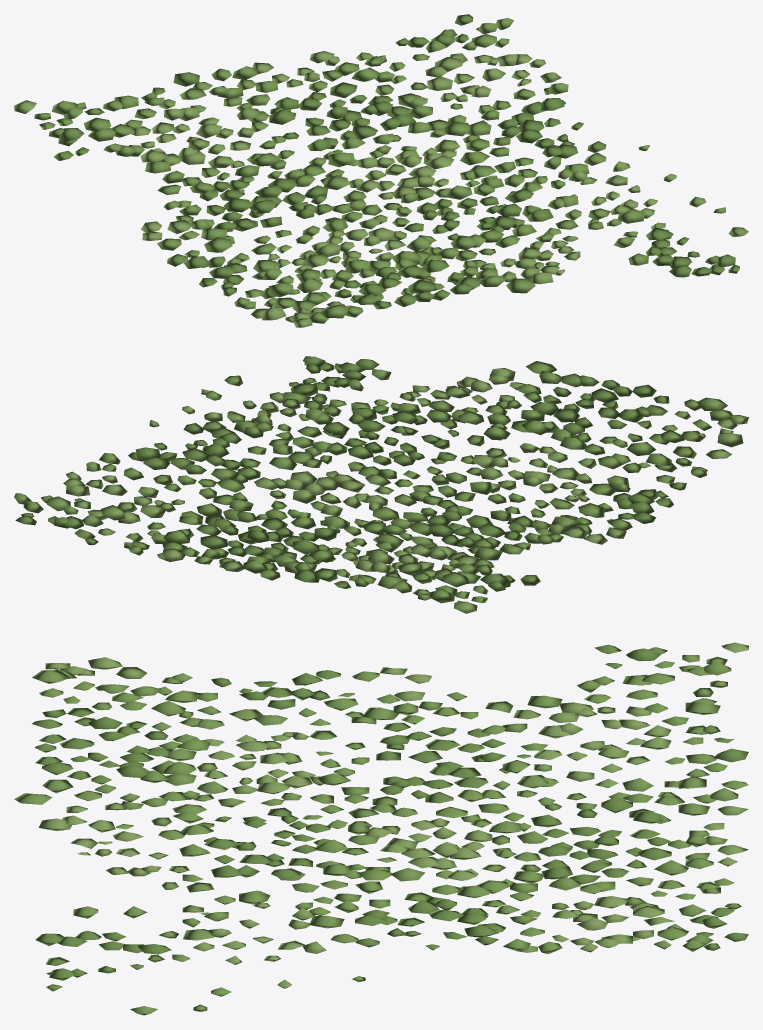
The model's file is canopy-1--1-1.glb.
3 views of the same model, one above another, from view 1: azimuth 30°, elevation 25°; view 2: azimuth 150°, elevation 25°; view 3: azimuth 270°, elevation 25° (orthographic). The views are drawn at different scales.
Size of the model in its own units: 510 by 70 by 522.
Materials: 1 (1 with a texture image).
